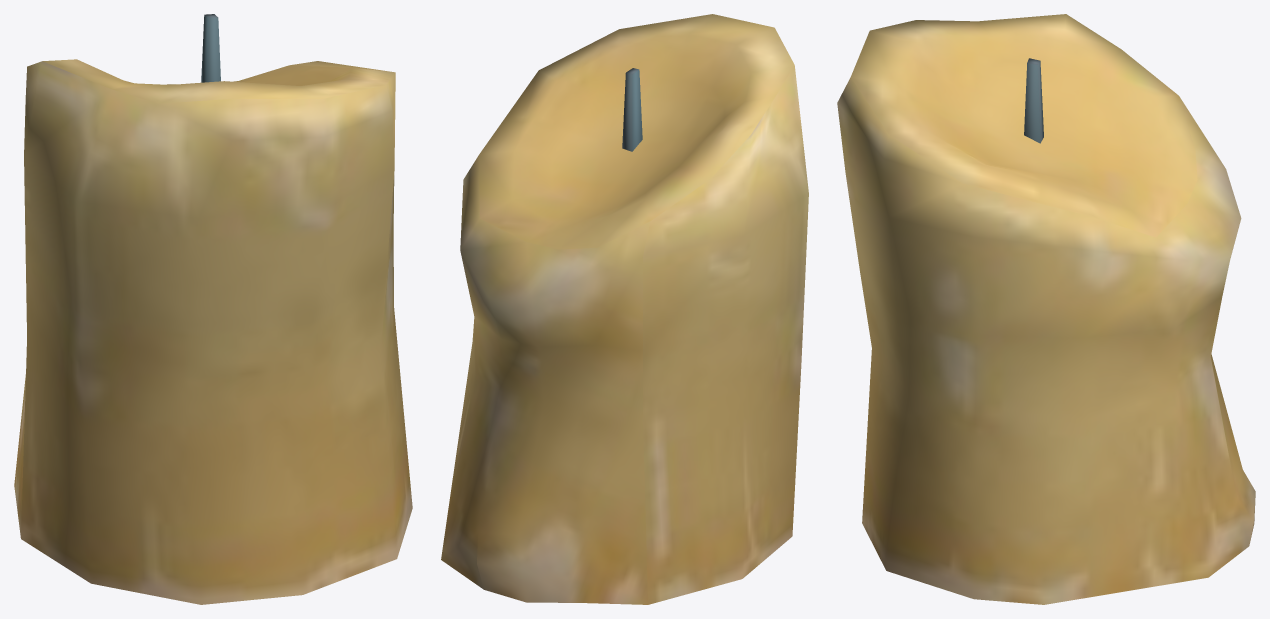
File: Candle_1.gltf
3 views of the same model, side by side, from view 1: azimuth 30°, elevation 25°; view 2: azimuth 150°, elevation 25°; view 3: azimuth 270°, elevation 25° (orthographic). The views are drawn at different scales.
Parts seen in each view (by area): view 1: Candle_1; view 2: Candle_1; view 3: Candle_1.
Part boxes in pixels (bbox=[...]): Candle_1: bbox=[14, 14, 412, 604]; Candle_1: bbox=[441, 14, 808, 604]; Candle_1: bbox=[837, 14, 1255, 604].
Bounding box in the file's own units: 0.0939 × 0.132 × 0.1079.
1 material, 1 textured.
